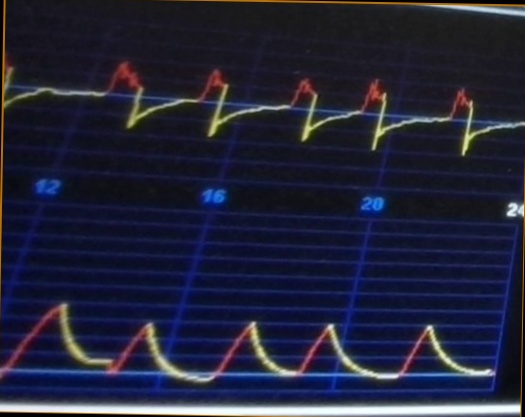Accumulation Flow: (5, 49, 524, 163)
Volume: (1, 291, 498, 391)
